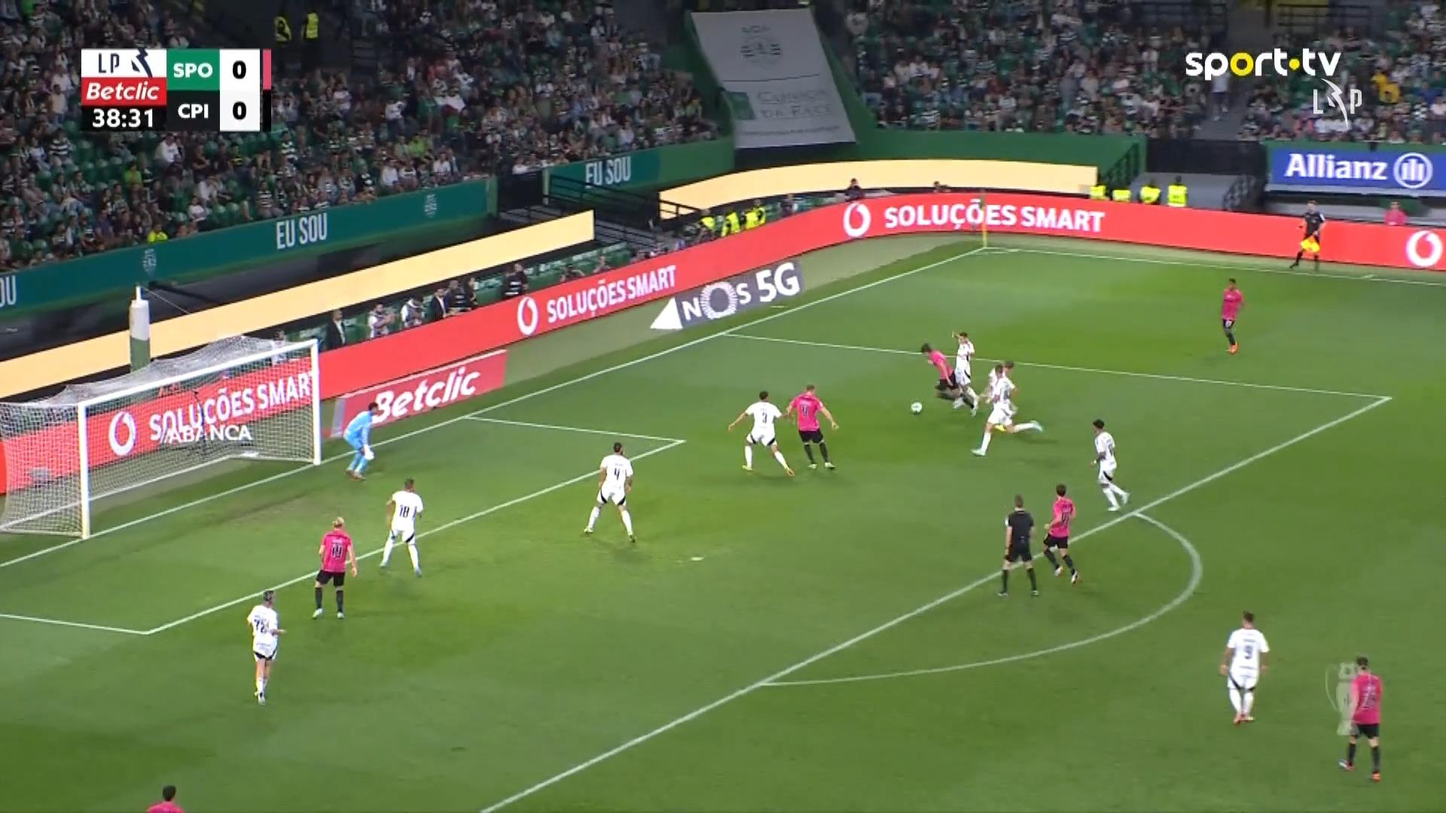ball: (910, 401, 922, 414)
goalkeeper: (341, 400, 380, 480)
player: (970, 359, 1042, 456), (727, 389, 795, 477), (1218, 610, 1269, 724), (1338, 655, 1383, 781), (582, 440, 636, 543), (310, 516, 358, 619), (784, 383, 839, 470), (246, 589, 286, 705), (378, 477, 424, 577), (920, 342, 979, 416), (1041, 483, 1080, 584), (1088, 418, 1130, 511), (950, 329, 979, 406), (978, 359, 1016, 413), (1220, 277, 1243, 353), (145, 781, 188, 813)
referee: (996, 493, 1039, 597), (1287, 199, 1326, 271)
